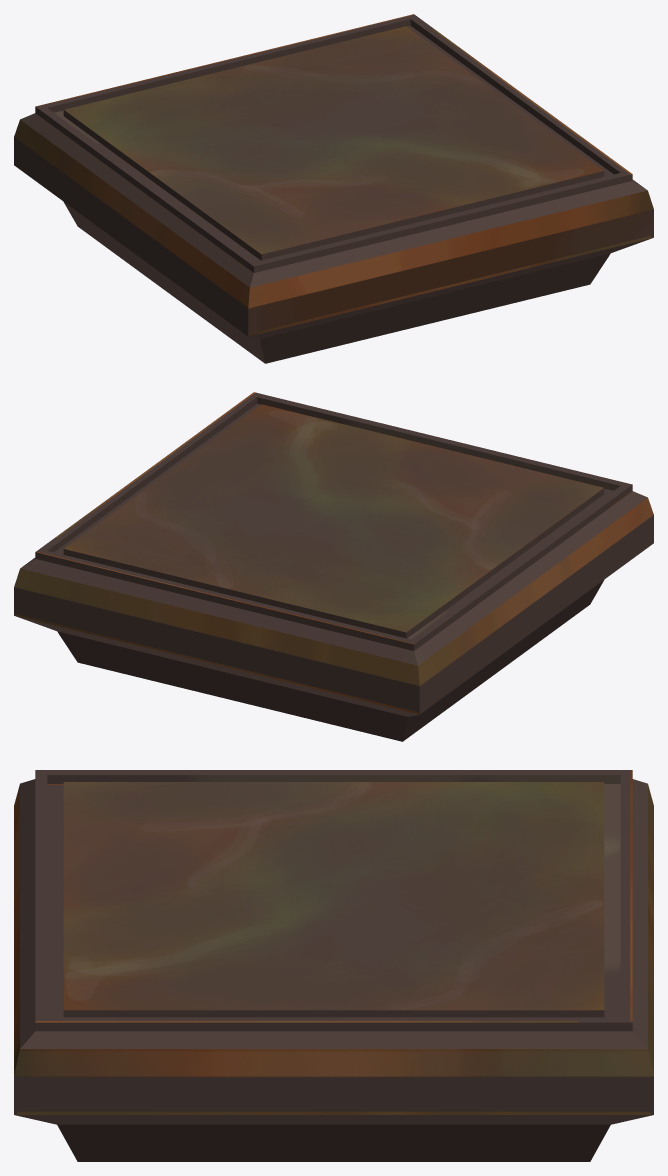
Rendered from Karo1.fbx.
The picture shows the model from 3 angles, top to bottom: view 1: azimuth 30°, elevation 25°; view 2: azimuth 150°, elevation 25°; view 3: azimuth 270°, elevation 25°; orthographic projection. The views are drawn at different scales.
Visible parts, largest first — view 1: Cube.006; view 2: Cube.006; view 3: Cube.006.
Part boxes in pixels (<box>): Cube.006: <box>14,14,653,363</box>; Cube.006: <box>14,392,653,741</box>; Cube.006: <box>14,770,653,1161</box>.
Bounding box in the file's own units: 206 × 55.77 × 206.
